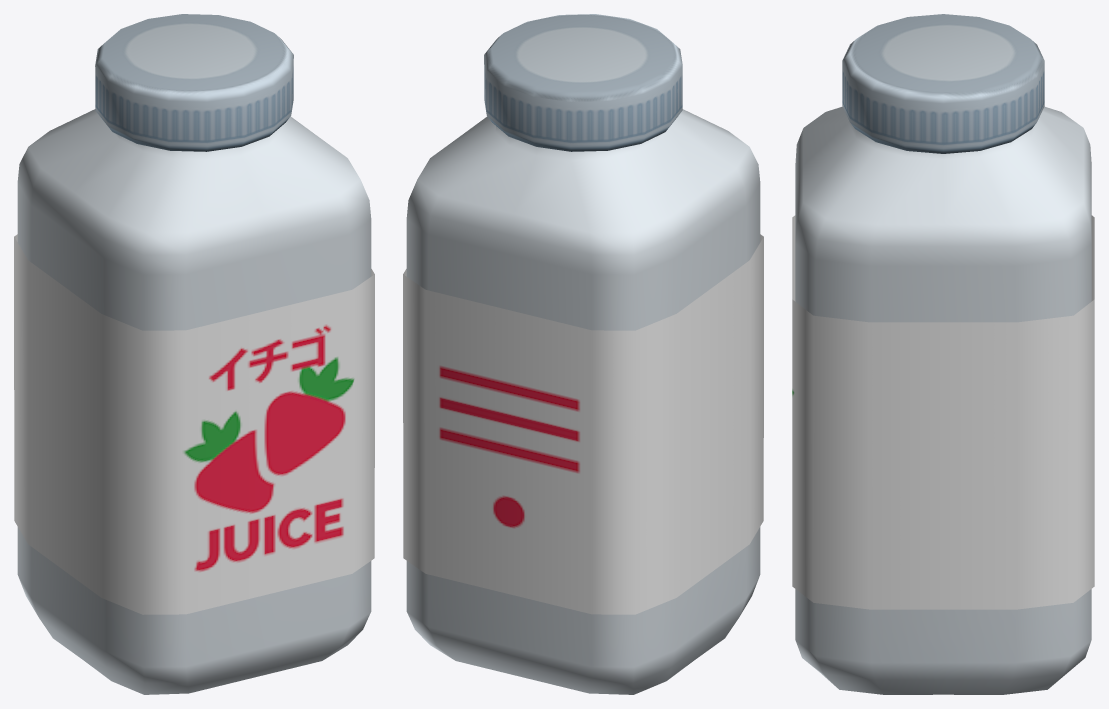
The model's file is 004-Juice_Bottle_01.FBX.
The picture shows the model from 3 angles, left to right: view 1: azimuth 30°, elevation 25°; view 2: azimuth 150°, elevation 25°; view 3: azimuth 270°, elevation 25°; orthographic projection.
Parts seen in each view (by area): view 1: 004-Juice_Bottle_01; view 2: 004-Juice_Bottle_01; view 3: 004-Juice_Bottle_01.
Part boxes in pixels (x1=…): 004-Juice_Bottle_01: x1=14, y1=14, x2=374, y2=694; 004-Juice_Bottle_01: x1=403, y1=14, x2=763, y2=694; 004-Juice_Bottle_01: x1=792, y1=14, x2=1094, y2=694.
Size of the model in its own units: 11.82 by 25.23 by 11.79.
